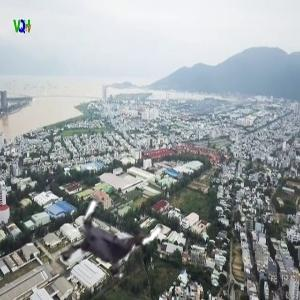drone: (61, 194, 160, 293)
